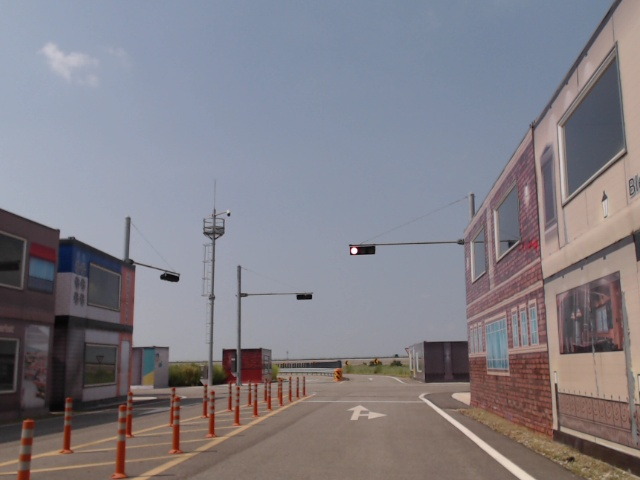red_3: (350, 246, 376, 255)
